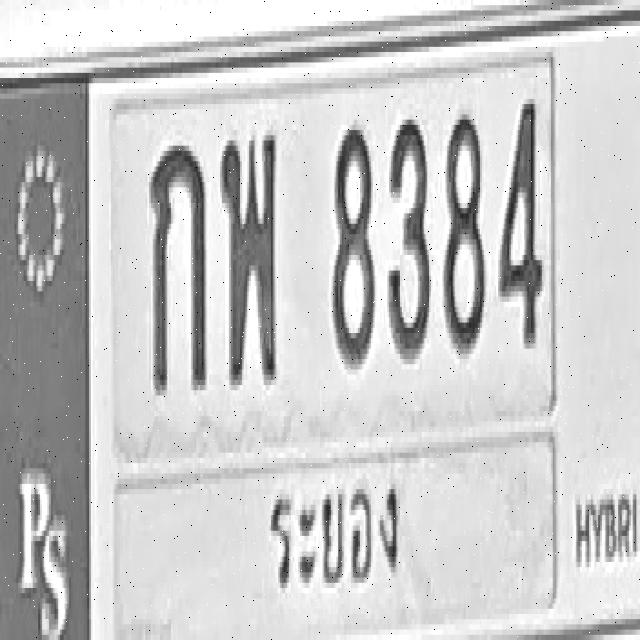10GorGai: (150, 140, 206, 390)
3: (387, 114, 429, 358)
39PhorPan: (220, 130, 276, 385)
4: (499, 96, 543, 346)
8: (332, 122, 374, 366), (442, 110, 484, 353)
Rayong: (266, 459, 405, 612)
